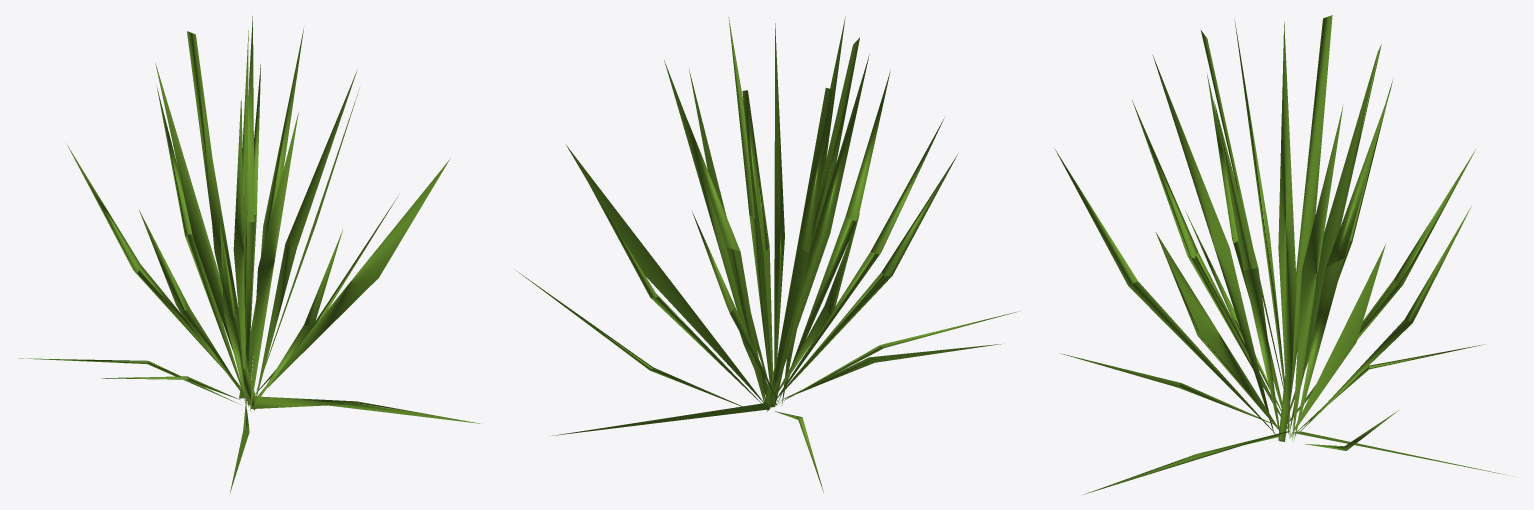
Rendered from greengrassbush_scaled 0.005.fbx.
The picture shows the model from 3 angles, left to right: view 1: azimuth 30°, elevation 25°; view 2: azimuth 150°, elevation 25°; view 3: azimuth 270°, elevation 25°; orthographic projection. The views are drawn at different scales.
Visible parts, largest first — view 1: p1-green; view 2: p1-green; view 3: p1-green.
Boxes of the visible parts, <box> form: p1-green: <box>19,16,481,492</box>; p1-green: <box>517,16,1017,492</box>; p1-green: <box>1054,15,1512,494</box>.
Size of the model in its own units: 1.01 by 0.9078 by 0.9083.
